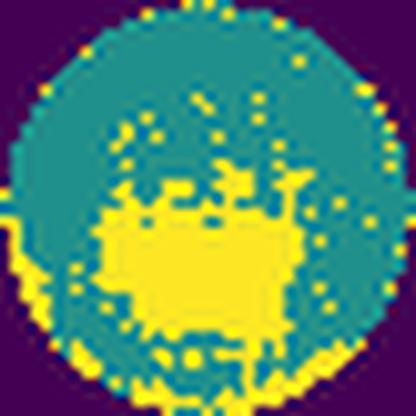Loc: (97, 160, 370, 416)
